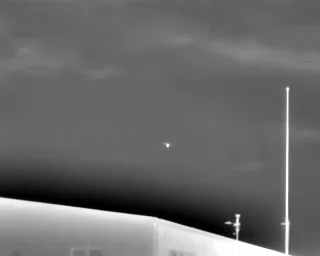HELICOPTER: (161, 140, 173, 151)
